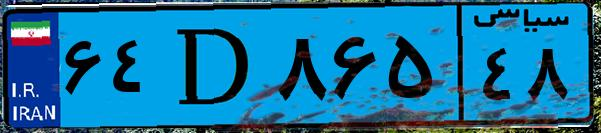4: (475, 38, 525, 113), (110, 28, 158, 98)
5: (385, 28, 445, 110)
6: (330, 28, 385, 110), (57, 26, 110, 100)
8: (270, 28, 330, 110), (525, 38, 570, 115)
D: (158, 12, 270, 120)
